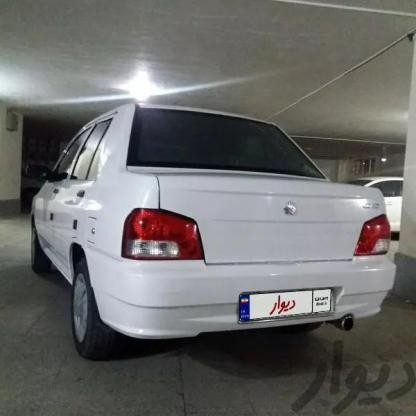Car: (29, 104, 388, 374)
